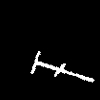double_crochet: (31, 51, 93, 81)
